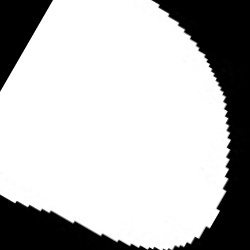spot: (2, 3, 229, 249)
